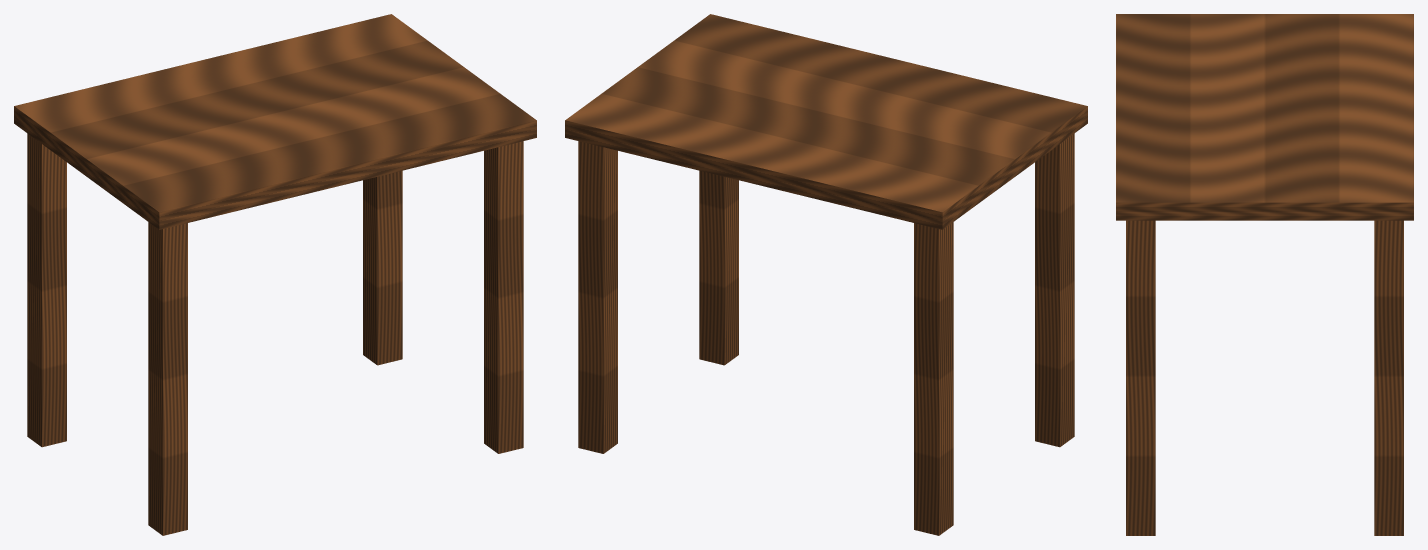
The model's file is table.glb.
3 views of the same model, side by side, from view 1: azimuth 30°, elevation 25°; view 2: azimuth 150°, elevation 25°; view 3: azimuth 270°, elevation 25° (orthographic). The views are drawn at different scales.
Parts seen in each view (by area): view 1: table; view 2: table; view 3: table.
Boxes of the visible parts, left/top/right/bottom form: table: left=14, top=14, right=536, bottom=535; table: left=565, top=14, right=1087, bottom=535; table: left=1116, top=14, right=1413, bottom=535.
Bounding box in the file's own units: 0.9 × 0.75 × 0.6.
Materials: 1 (1 with a texture image).
